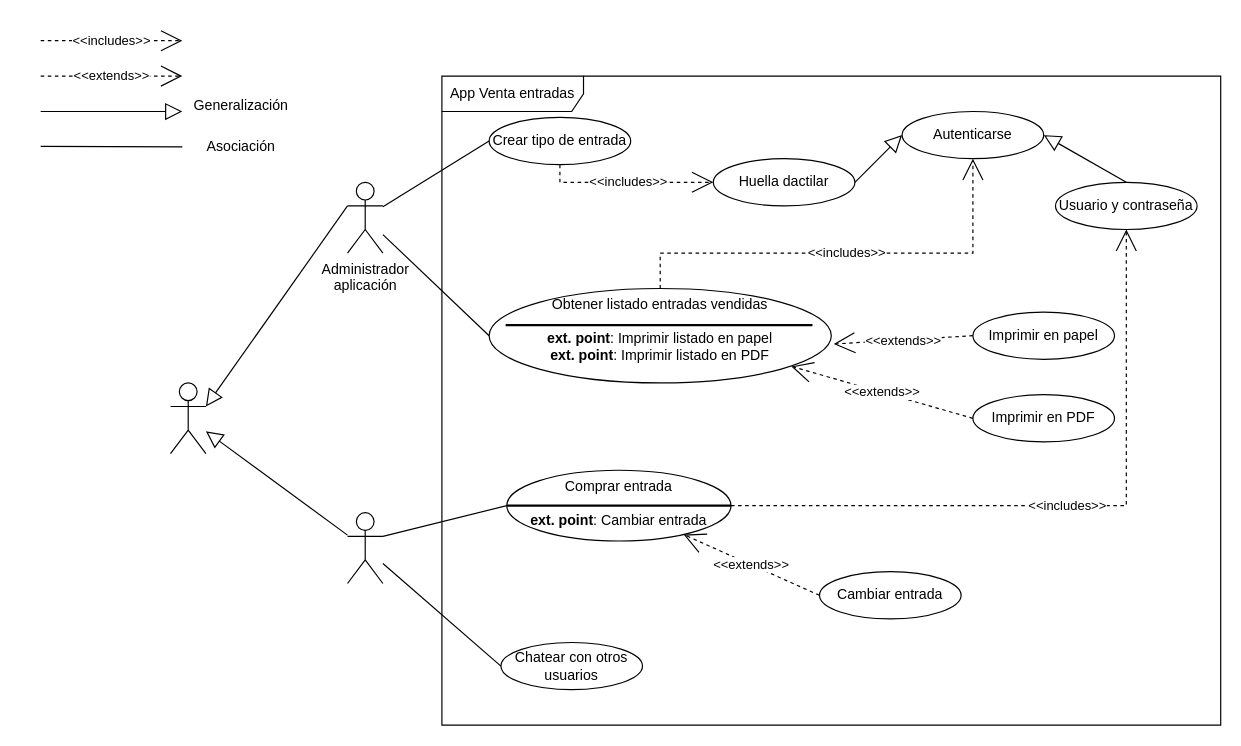
The diagram is 1241 pixels wide and 746 high, and some of its shapes have lost their labels. The centre of each missing label's shape, as x and y in pixels:
Cliente: point (364, 548)
Usuario: point (187, 418)
